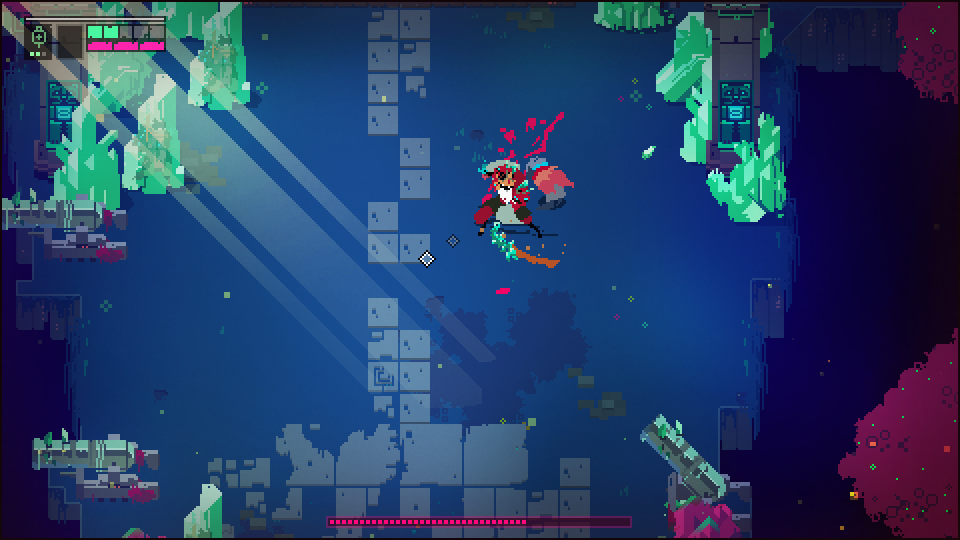hanged_man: (475, 162, 545, 266)
player: (528, 153, 576, 207)
